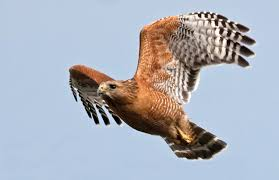nontarget: (67, 11, 279, 162)
